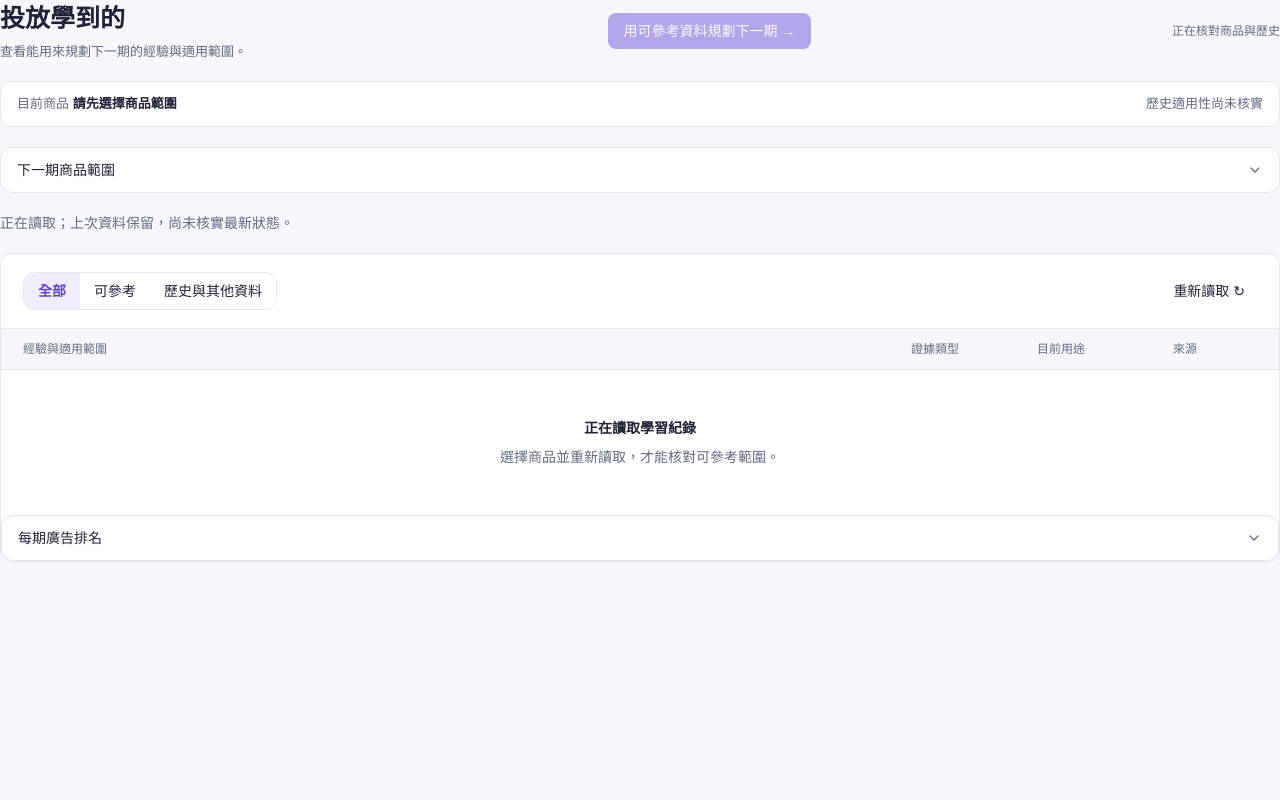
Test: LearningsTab 投放學到的 › a campaign with empty_reason prints the sentence instead of a table, and no cap chip when cap is null
This screenshot has width=1280, height=800.
What coordinates should you click on to do the following:
click the button "每期廣告排名"
I would click on:
 (60, 538)
Its box is [2,516,1278,560].
(page scrolled)
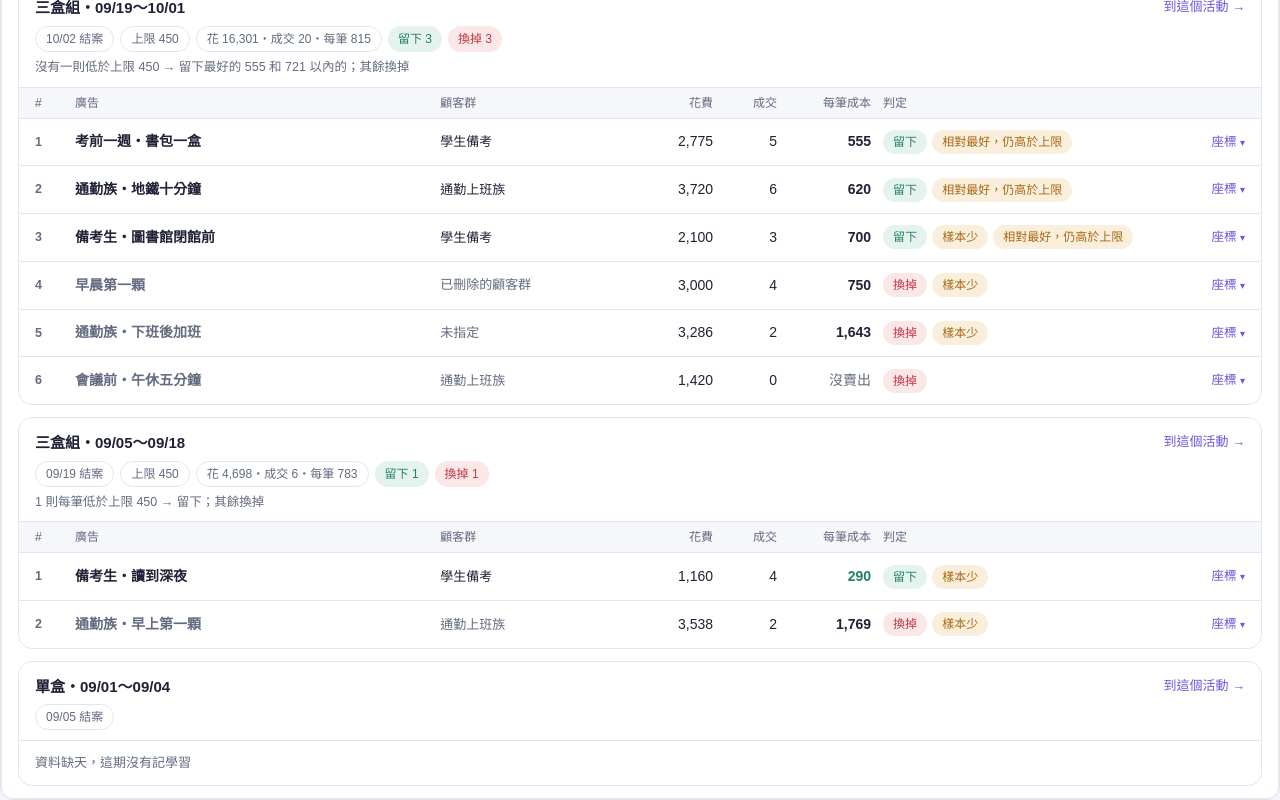
Check: the text "資料缺天，這期沒有記學習" is shown, box [19,740,1261,785]
Check: the text "09/05 結案" is shown, box [35,704,114,730]
